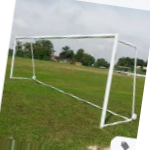goals: (10, 33, 137, 130)
